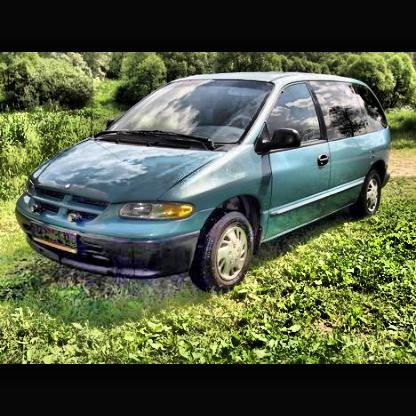Dodge Caravan Minivan 1997: (17, 72, 395, 294)
